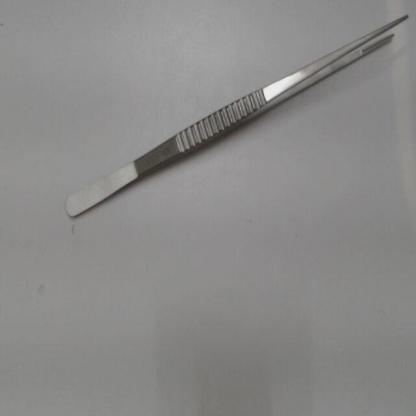DeBakey Dissector: (55, 6, 412, 238)
